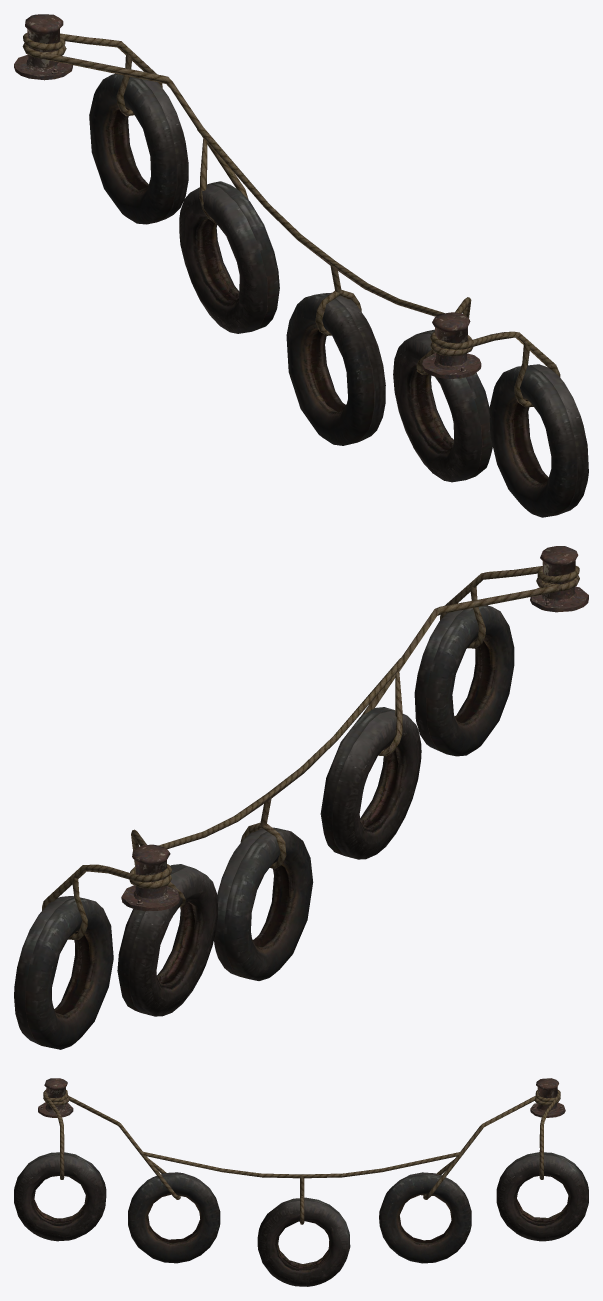
The model's file is floatingcity_fender_a.glb.
The picture shows the model from 3 angles, top to bottom: view 1: azimuth 30°, elevation 25°; view 2: azimuth 150°, elevation 25°; view 3: azimuth 270°, elevation 25°; orthographic projection. The views are drawn at different scales.
Parts seen in each view (by area): view 1: FloatingCity_Fender_a; view 2: FloatingCity_Fender_a; view 3: FloatingCity_Fender_a.
Boxes of the visible parts, box(x1,y1,x2,y2) form: FloatingCity_Fender_a: box(14, 14, 588, 517); FloatingCity_Fender_a: box(14, 546, 588, 1049); FloatingCity_Fender_a: box(14, 1078, 588, 1286).
Bounding box in the file's own units: 1.56 × 3.11 × 9.2.
Materials: 1 (1 with a texture image).
